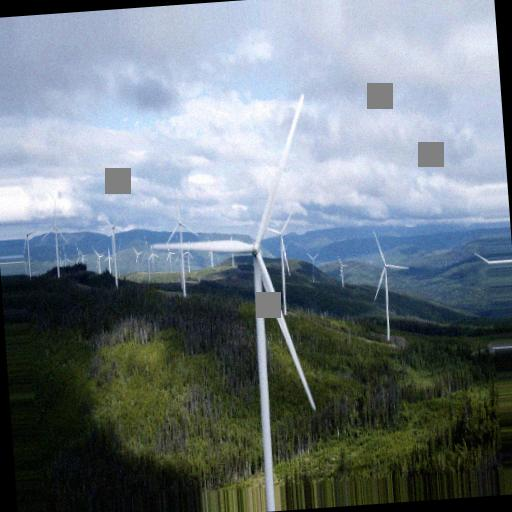wind turbine: (152, 95, 319, 485), (363, 229, 409, 340), (165, 198, 198, 298), (266, 213, 292, 319)
